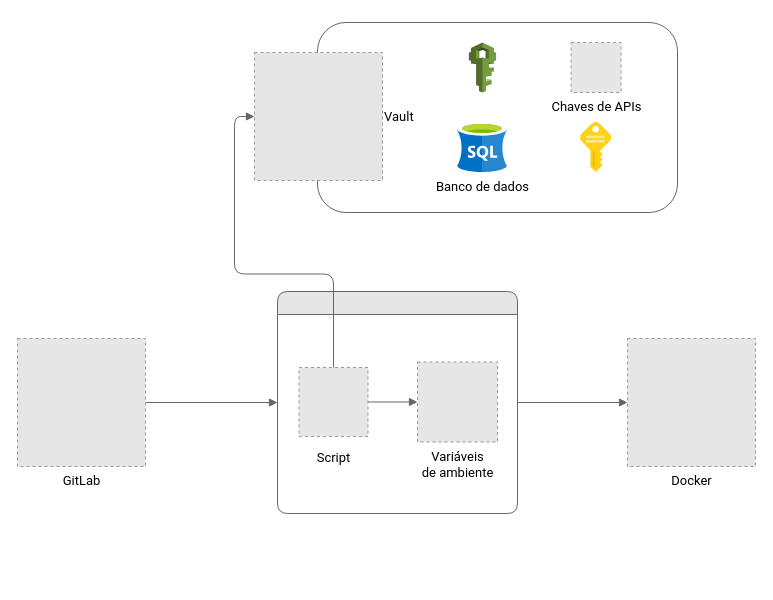
Some shapes in this 773 by 600 pixel diagram are drawn without their labels. Grey dashed boxes stand in for pictures. Each missing label, with the box of its shape:
AWS IAM: (443, 17, 521, 117)
CI/CD: (276, 290, 518, 514)
Outras credenciais...: (580, 122, 611, 172)
